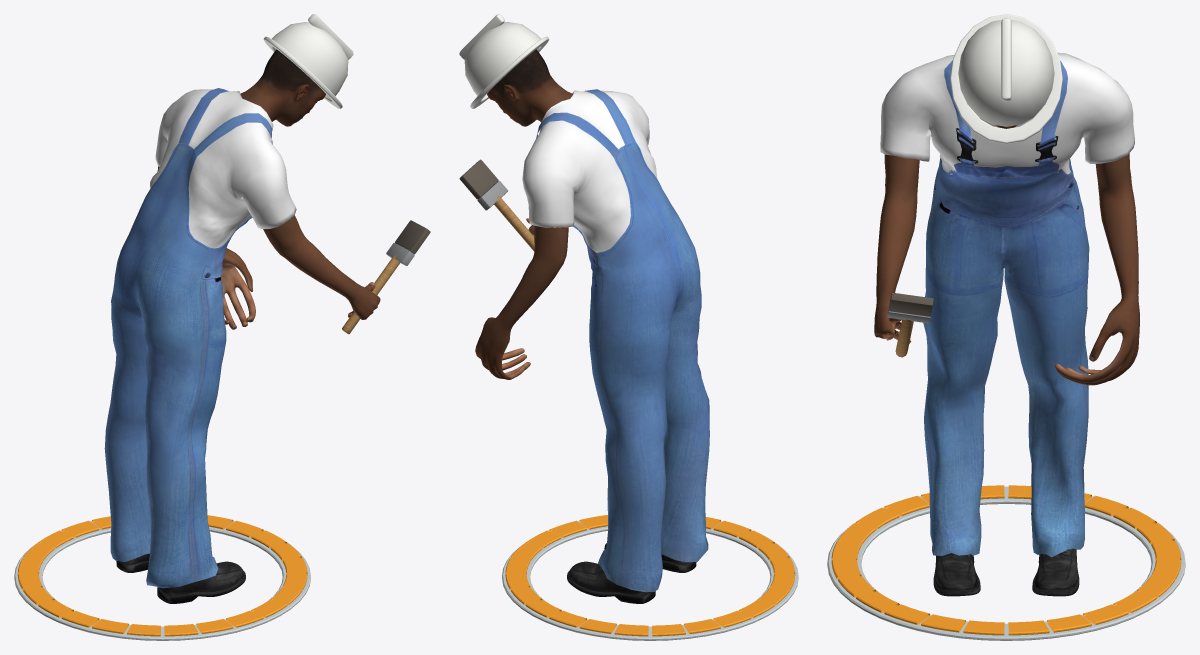
Rendered from MDO-OBR-009.glb.
3 renders of one model, left to right at view 1: azimuth 30°, elevation 25°; view 2: azimuth 150°, elevation 25°; view 3: azimuth 270°, elevation 25°, orthographic. The views are drawn at different scales.
Parts seen in each view (by area): view 1: MDO-OBR-009_pessoa_male_worksuit01, MDO-OBR-009_pessoa, MDO-OBR-009_anel_fundo, MDO-OBR-009_capacete, MDO-OBR-009_pessoa_shoes04, MDO-OBR-009_ferD_cerdas, MDO-OBR-009_capacete_aba, MDO-OBR-009_ferD_cabo; view 2: MDO-OBR-009_pessoa_male_worksuit01, MDO-OBR-009_pessoa, MDO-OBR-009_anel_fundo, MDO-OBR-009_capacete, MDO-OBR-009_pessoa_shoes04, MDO-OBR-009_ferD_cerdas, MDO-OBR-009_capacete_aba, MDO-OBR-009_ferD_cabo; view 3: MDO-OBR-009_pessoa_male_worksuit01, MDO-OBR-009_pessoa, MDO-OBR-009_capacete, MDO-OBR-009_anel_fundo, MDO-OBR-009_pessoa_shoes04, MDO-OBR-009_capacete_aba, MDO-OBR-009_capacete_friso, MDO-OBR-009_ferD_cerdas, MDO-OBR-009_anel_h03, MDO-OBR-009_anel_h08, MDO-OBR-009_anel_h04, MDO-OBR-009_anel_h07 (+10 smaller).
Part boxes in pixels (<box>): MDO-OBR-009_pessoa_male_worksuit01: <box>104,88,296,588</box>; MDO-OBR-009_pessoa: <box>157,49,380,329</box>; MDO-OBR-009_anel_fundo: <box>14,521,310,640</box>; MDO-OBR-009_capacete: <box>272,22,348,98</box>; MDO-OBR-009_pessoa_shoes04: <box>116,553,245,603</box>; MDO-OBR-009_ferD_cerdas: <box>395,220,430,254</box>; MDO-OBR-009_capacete_aba: <box>263,36,342,108</box>; MDO-OBR-009_ferD_cabo: <box>342,255,399,334</box>; MDO-OBR-009_pessoa_male_worksuit01: <box>522,89,709,592</box>; MDO-OBR-009_pessoa: <box>475,49,573,379</box>; MDO-OBR-009_anel_fundo: <box>502,521,798,640</box>; MDO-OBR-009_capacete: <box>464,22,540,98</box>; MDO-OBR-009_pessoa_shoes04: <box>567,543,696,603</box>; MDO-OBR-009_ferD_cerdas: <box>459,159,498,199</box>; MDO-OBR-009_capacete_aba: <box>470,36,549,108</box>; MDO-OBR-009_ferD_cabo: <box>494,196,534,251</box>; MDO-OBR-009_pessoa_male_worksuit01: <box>880,52,1134,557</box>; MDO-OBR-009_pessoa: <box>874,125,1139,385</box>; MDO-OBR-009_capacete: <box>958,19,1054,126</box>; MDO-OBR-009_anel_fundo: <box>827,486,1185,640</box>; MDO-OBR-009_pessoa_shoes04: <box>933,548,1079,596</box>; MDO-OBR-009_capacete_aba: <box>950,14,1062,143</box>; MDO-OBR-009_capacete_friso: <box>1001,18,1011,101</box>; MDO-OBR-009_ferD_cerdas: <box>888,292,933,316</box>; MDO-OBR-009_anel_h03: <box>1083,604,1128,624</box>; MDO-OBR-009_anel_h08: <box>884,604,929,624</box>; MDO-OBR-009_anel_h04: <box>1047,614,1091,632</box>; MDO-OBR-009_anel_h07: <box>921,614,965,632</box>.
Size of the model in its own units: 1.14 by 1.65 by 0.84.
11 materials, 6 textured.
